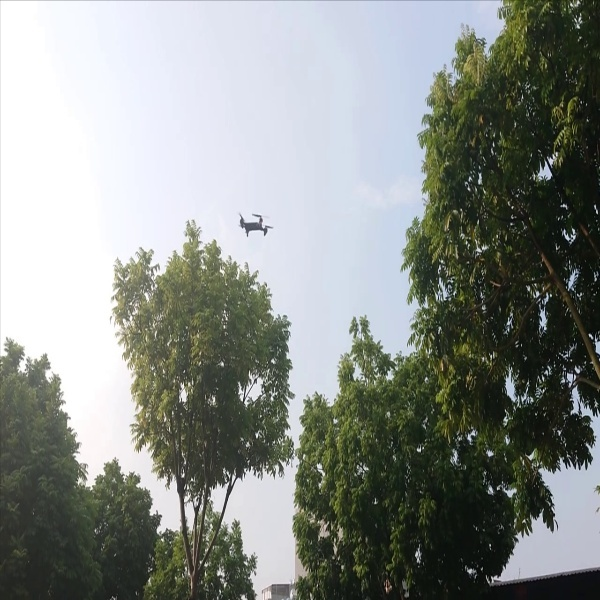drone: (231, 208, 279, 247)
